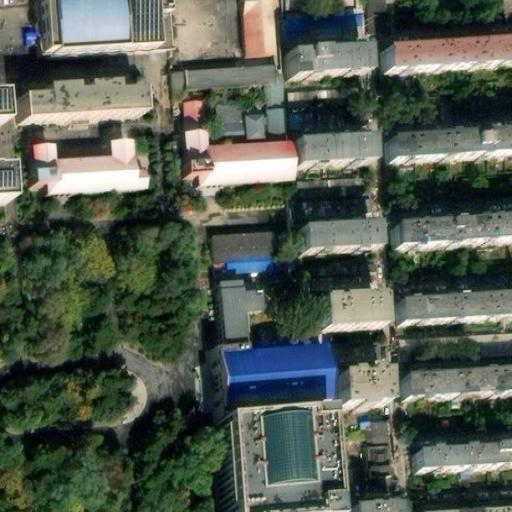building: (216, 422, 325, 512), (213, 355, 330, 427), (29, 149, 145, 205), (42, 8, 169, 59), (182, 137, 294, 193), (172, 64, 281, 109), (382, 34, 512, 71), (16, 80, 137, 119), (387, 120, 512, 154), (396, 287, 512, 322), (393, 212, 512, 246), (404, 362, 512, 398), (220, 286, 270, 360), (415, 440, 512, 470), (295, 218, 373, 252), (291, 125, 375, 156), (302, 264, 378, 298), (284, 43, 361, 76), (317, 296, 382, 332), (210, 231, 278, 260), (332, 363, 382, 395), (366, 449, 391, 495), (417, 500, 512, 512), (213, 101, 243, 134), (265, 108, 292, 144), (181, 98, 203, 138), (344, 497, 389, 512), (243, 118, 267, 145), (0, 162, 17, 200)
